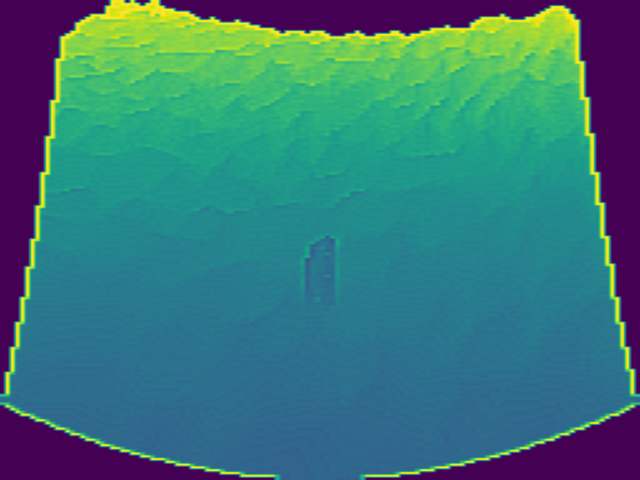car_0198: (301, 235, 337, 304)
